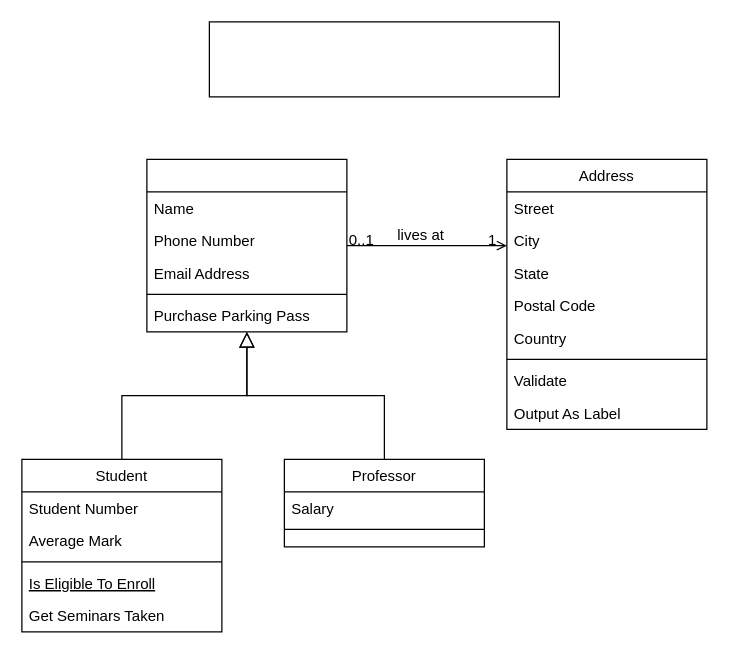
Some shapes in this 729 by 658 pixel diagram are drawn without their labels. The shapes that lost their labels are listed below. From the top down, each one's box as (x1, y1, x2, y2) in pixels, then its label:
(208, 21, 559, 97): ENTIDAD RELACIÓN
(146, 158, 347, 332): Person
